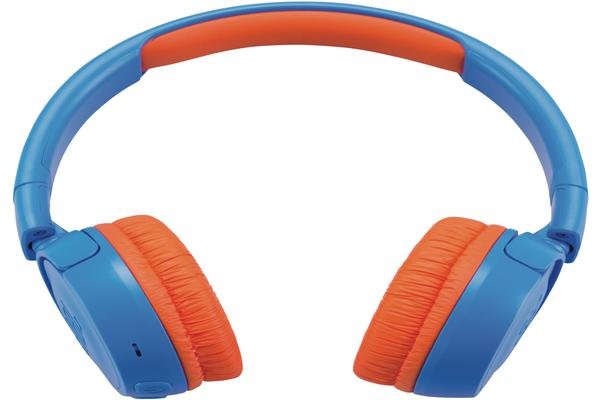headphone: (17, 7, 599, 400)
